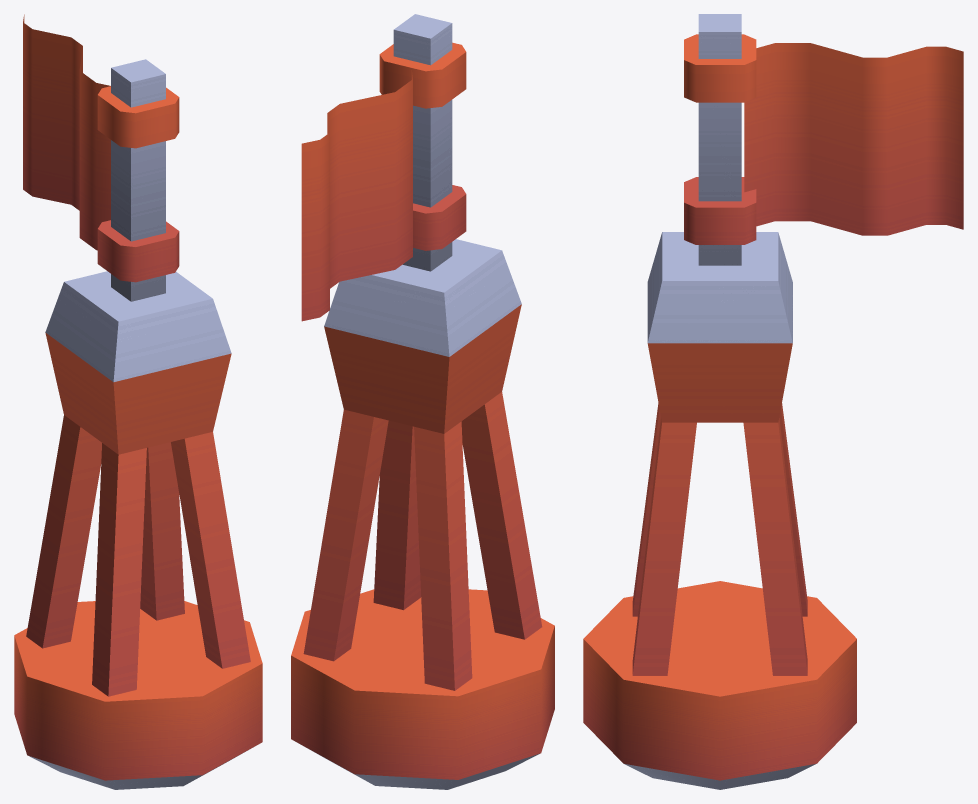
The model's file is buoy-flag.glb.
The picture shows the model from 3 angles, left to right: view 1: azimuth 30°, elevation 25°; view 2: azimuth 150°, elevation 25°; view 3: azimuth 270°, elevation 25°; orthographic projection. The views are drawn at different scales.
Visible parts, largest first — view 1: buoy-flag; view 2: buoy-flag; view 3: buoy-flag.
Part boxes in pixels (bbox=[...]): buoy-flag: bbox=[14, 14, 262, 789]; buoy-flag: bbox=[291, 14, 554, 789]; buoy-flag: bbox=[583, 14, 963, 789].
Bounding box in the file's own units: 0.9282 × 2.72 × 1.29.
Materials: 1 (1 with a texture image).
